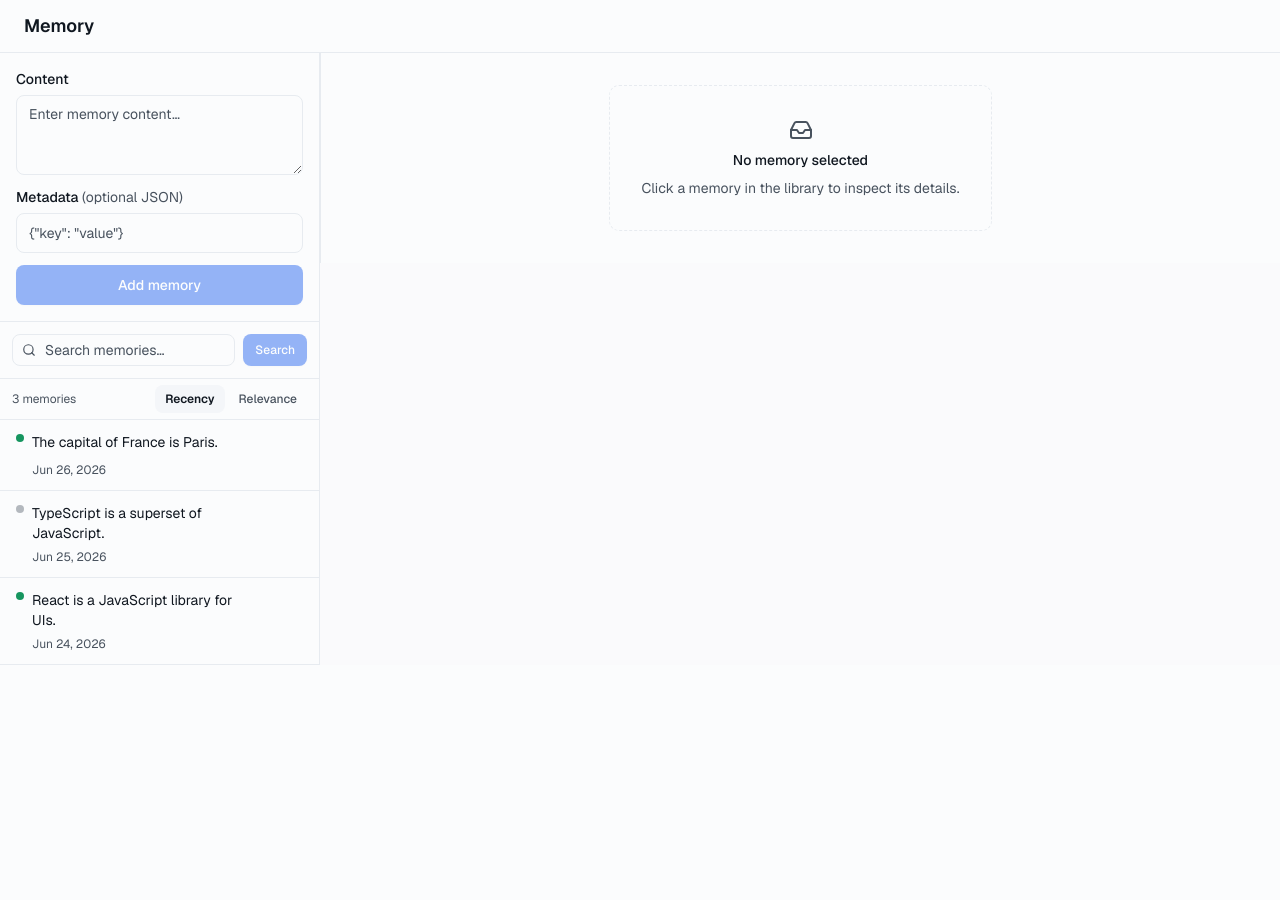
it: MemoryWorkspace — Console-grade behaviors › clicking_library_item_shows_detail_in_inspector
Click the option "The capital of France is Paris. Jun 26, 2026" at point(125, 442), box left=0, top=420, right=319, bottom=491
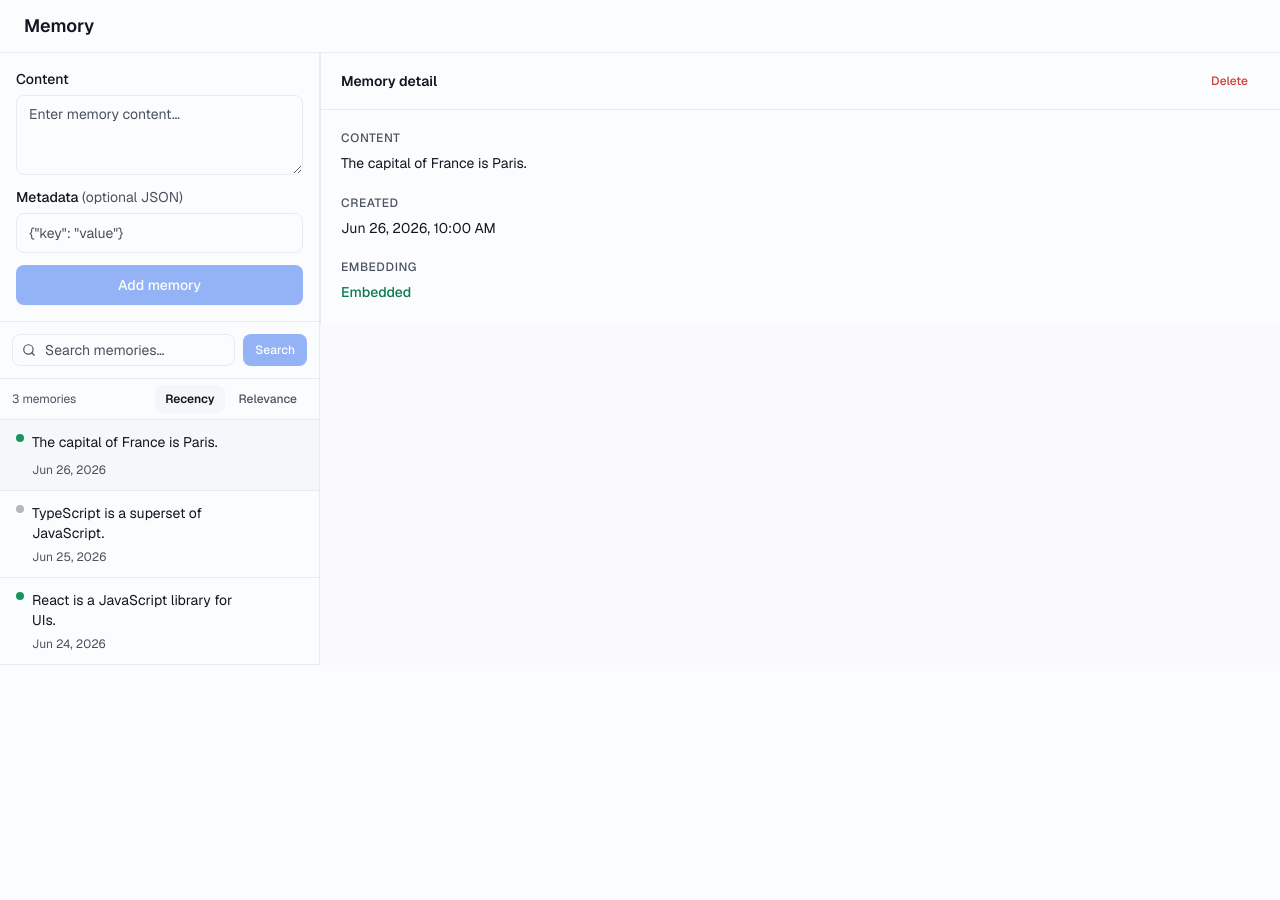
Expected: the text "The capital of France is Paris." below "Memory detail" is shown, left=341, top=154, right=527, bottom=172
